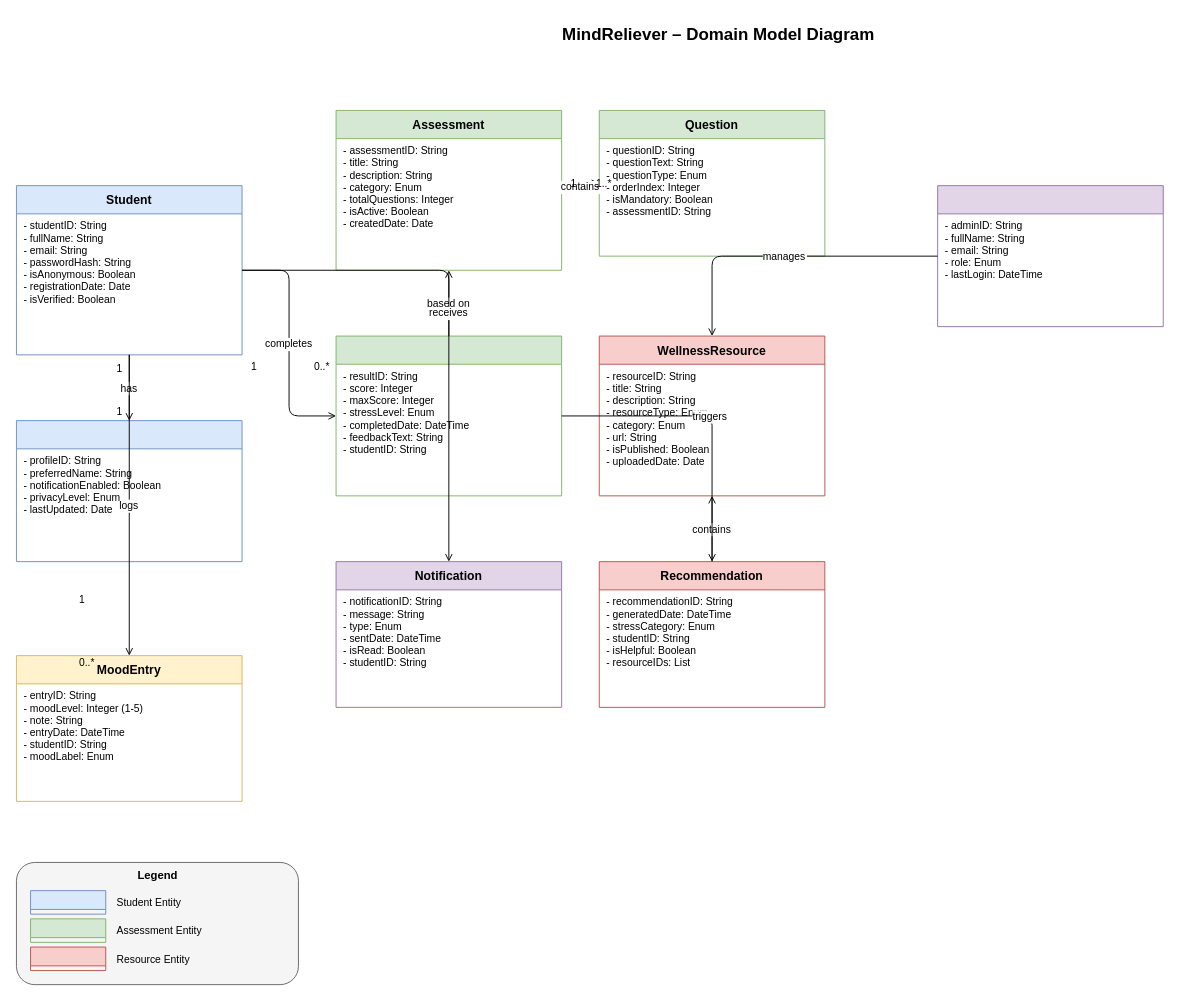
Image size: 1180x1001. Some labels were removed from this diagram. Each missing label, with the box of its shape:
Administrator: (937, 185, 1163, 327)
AssessmentResult: (335, 335, 562, 496)
UserProfile: (16, 420, 242, 562)
